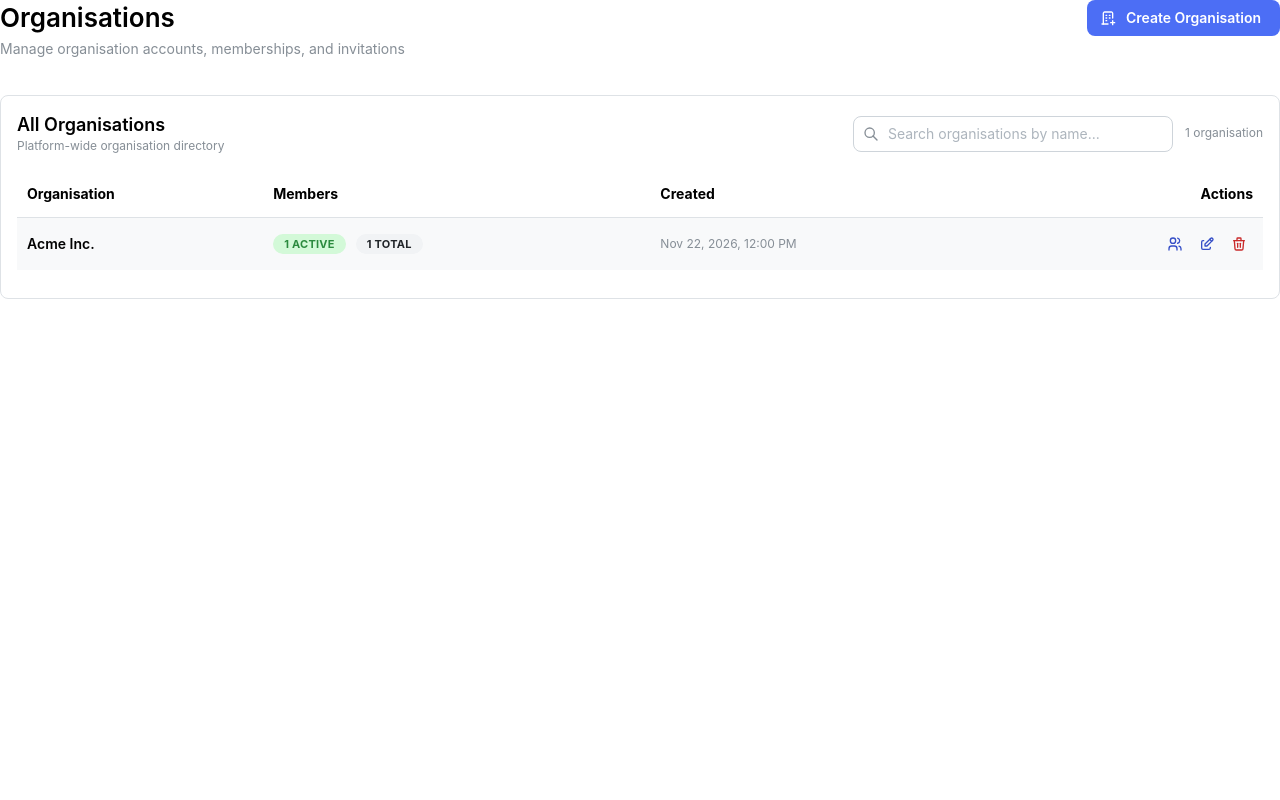
Test: OrganisationsPage & Organisation Registration › lists organisations and allows admins to add a member by signup email
This screenshot has width=1280, height=800.
Expected: the text "Acme Inc." is shown, left=27, top=235, right=95, bottom=252
Click the button named "manage members of acme inc." at x=1175, y=244, box left=1161, top=230, right=1189, bottom=258
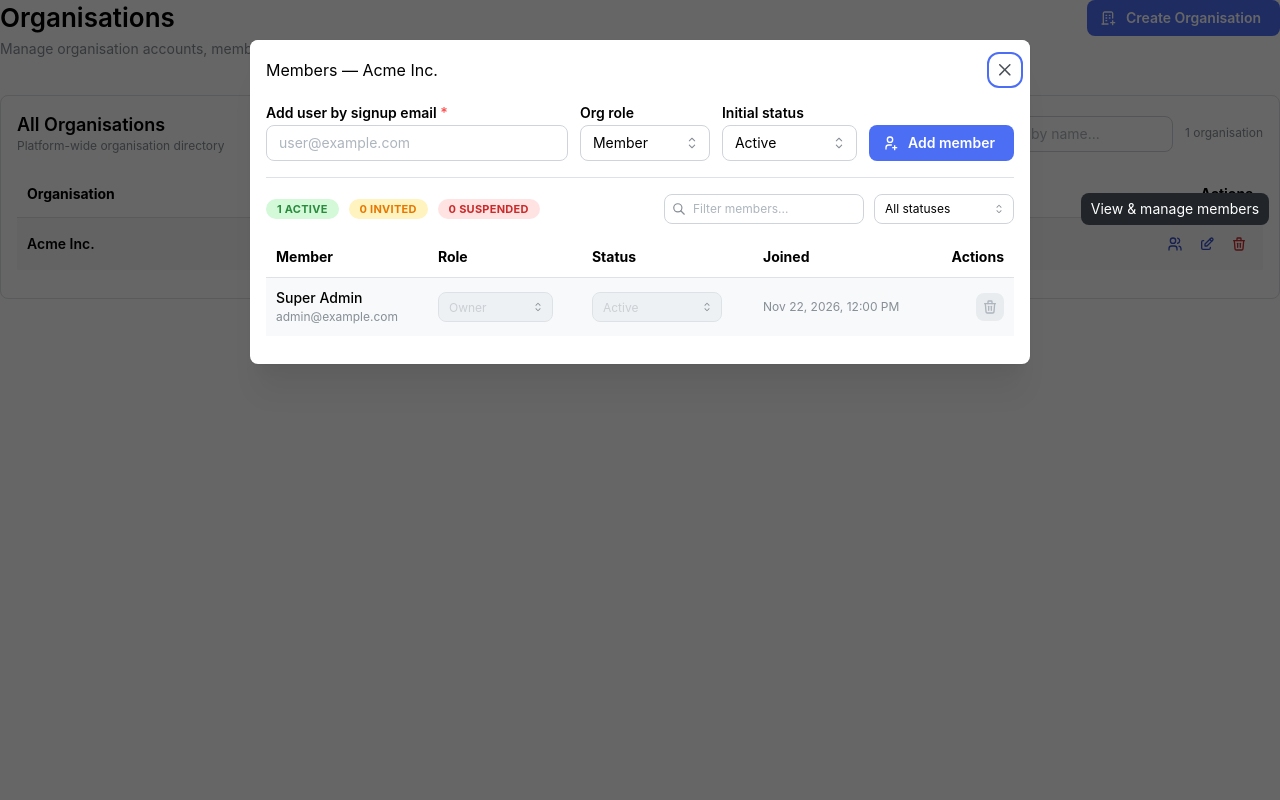
Type "alice@acme.test" into the field labelled "Add user by signup email *" at x=417, y=143, box left=266, top=125, right=568, bottom=161
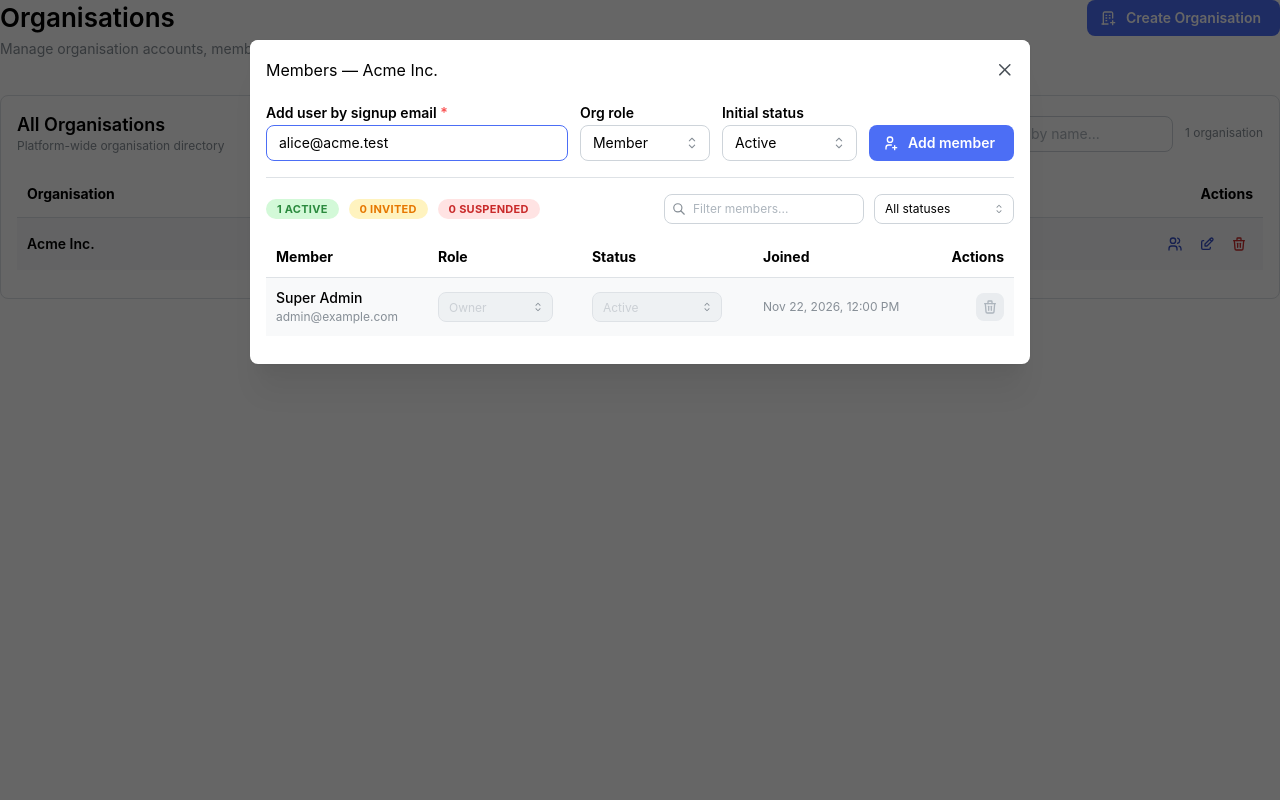
Click the button "Add member" at x=942, y=143, box left=869, top=125, right=1014, bottom=161
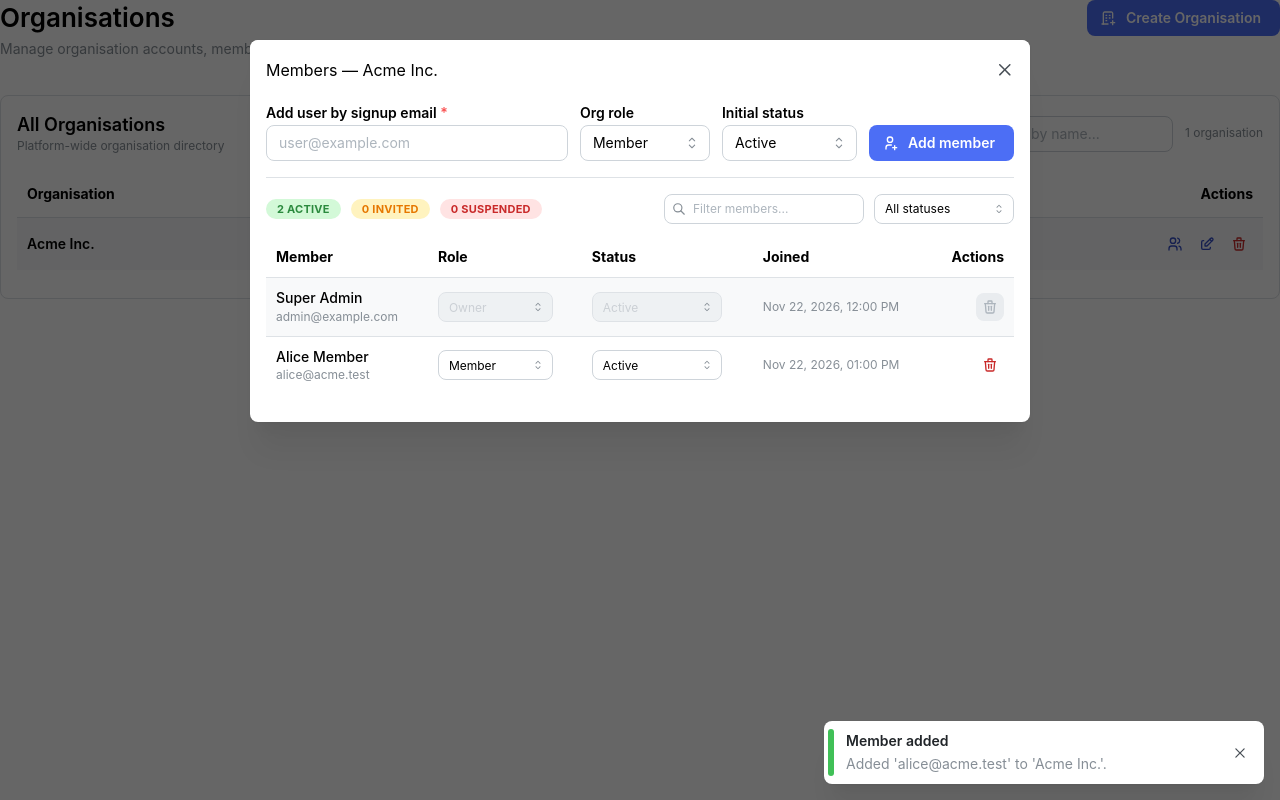
Expected: the text "alice@acme.test" is shown, left=276, top=367, right=370, bottom=382
